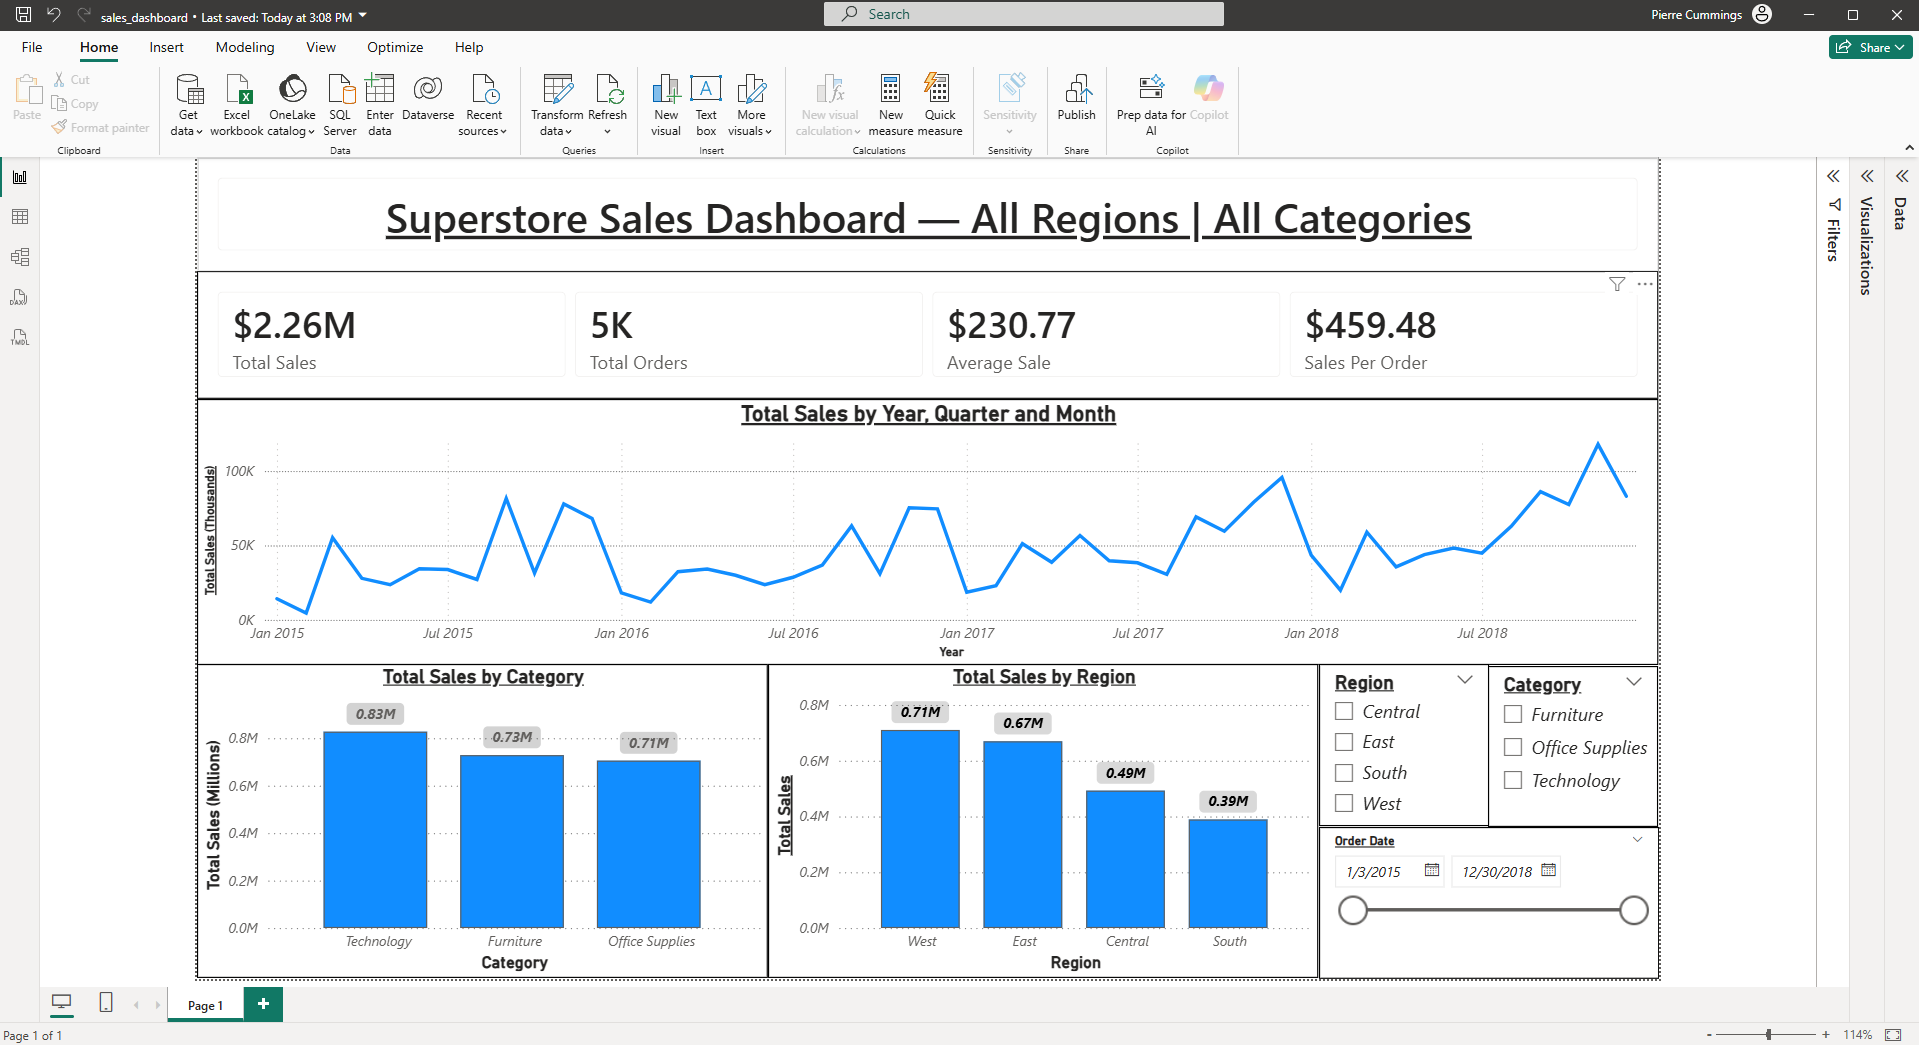

What the dashboard file says about the page in this screenshot:
{"tool":"powerbi","page":{"name":"Page 1","canvas":[1280,720],"ordinal":0},"visuals":[{"type":"cardVisual","fields":{"Data":["Superstore.Total Sales","Superstore.Total Orders","Superstore.Average Sale","Superstore.Sales Per Order"]},"box":[0,100.2,1280,111.9],"z":0},{"type":"lineChart","fields":{"Category":["Superstore.Order Date.Variation.Date Hierarchy.Year","Superstore.Order Date.Variation.Date Hierarchy.Quarter","Superstore.Order Date.Variation.Date Hierarchy.Month","Superstore.Order Date.Variation.Date Hierarchy.Day"],"Y":["Superstore.Total Sales"]},"box":[0,212,1280,233.4],"z":1000},{"type":"clusteredColumnChart","fields":{"Category":["Superstore.Category"],"Y":["Superstore.Total Sales"]},"box":[0,444.5,499.9,275.3],"z":2000},{"type":"clusteredColumnChart","fields":{"Category":["Superstore.Region"],"Y":["Superstore.Total Sales"]},"box":[499.9,444.5,482.4,275.3],"z":3000},{"type":"slicer","fields":{"Values":["Superstore.Region"]},"box":[982.4,444.5,148.8,142],"z":4000},{"type":"slicer","fields":{"Values":["Superstore.Category"]},"box":[1131.2,445.5,148.8,141],"z":5000},{"type":"slicer","fields":{"Values":["Superstore.Order Date"]},"box":[982.4,586.5,297.6,133.3],"z":6000},{"type":"cardVisual","fields":{"Data":["Superstore.Dashboard Title"]},"box":[0,0,1280,100.2],"z":7000}]}

Visuals, with their boxes on the page's 1280x720 design canvas (x1, y1, x2, y2). These are canvas units, not pixel positions in the 1919x1045 screenshot, which may show the page scaled, cropped or inside an application window:
cardVisual - Superstore.Total Sales x Superstore.Total Orders: {"left": 0, "top": 100, "right": 1280, "bottom": 212}
lineChart - Superstore.Order Date.Variation.Date Hierarchy.Year x Superstore.Order Date.Variation.Date Hierarchy.Quarter: {"left": 0, "top": 212, "right": 1280, "bottom": 445}
clusteredColumnChart - Superstore.Category x Superstore.Total Sales: {"left": 0, "top": 444, "right": 500, "bottom": 720}
clusteredColumnChart - Superstore.Region x Superstore.Total Sales: {"left": 500, "top": 444, "right": 982, "bottom": 720}
slicer - Superstore.Region: {"left": 982, "top": 444, "right": 1131, "bottom": 586}
slicer - Superstore.Category: {"left": 1131, "top": 446, "right": 1280, "bottom": 586}
slicer - Superstore.Order Date: {"left": 982, "top": 586, "right": 1280, "bottom": 720}
cardVisual - Superstore.Dashboard Title: {"left": 0, "top": 0, "right": 1280, "bottom": 100}
